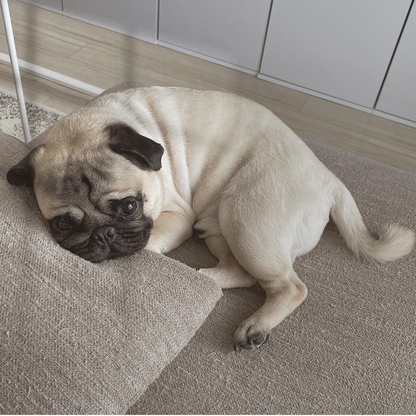Pug: (4, 82, 416, 354)
